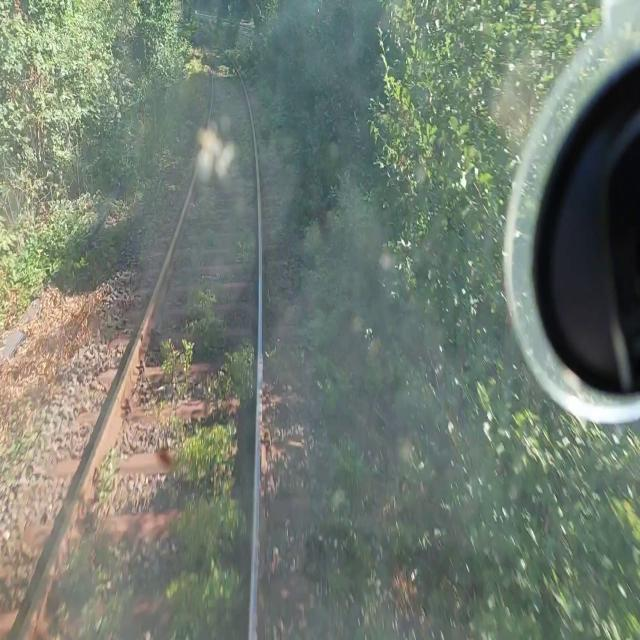Plant: (257, 78, 357, 415), (164, 412, 246, 639), (301, 423, 391, 621), (152, 21, 260, 181), (52, 542, 130, 639), (202, 341, 255, 406), (186, 281, 227, 359), (157, 335, 193, 399), (236, 118, 256, 204), (232, 220, 257, 277), (201, 187, 221, 252), (93, 451, 117, 505), (167, 408, 183, 434), (265, 343, 278, 373)
